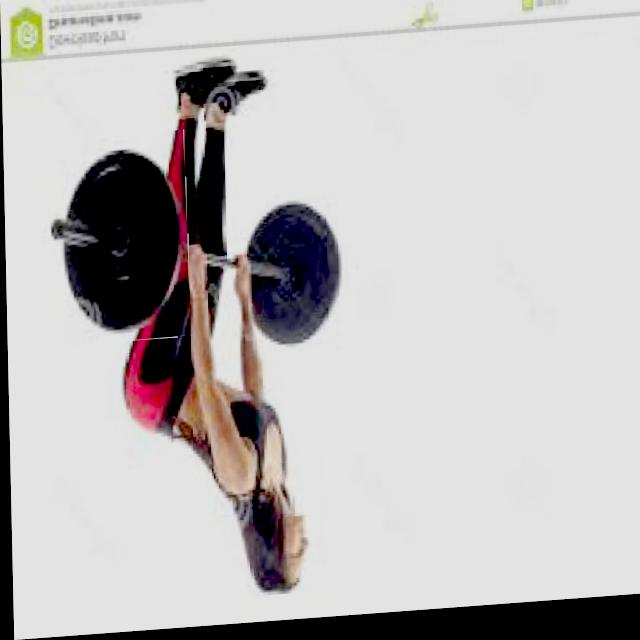barbell: (46, 134, 190, 349)
